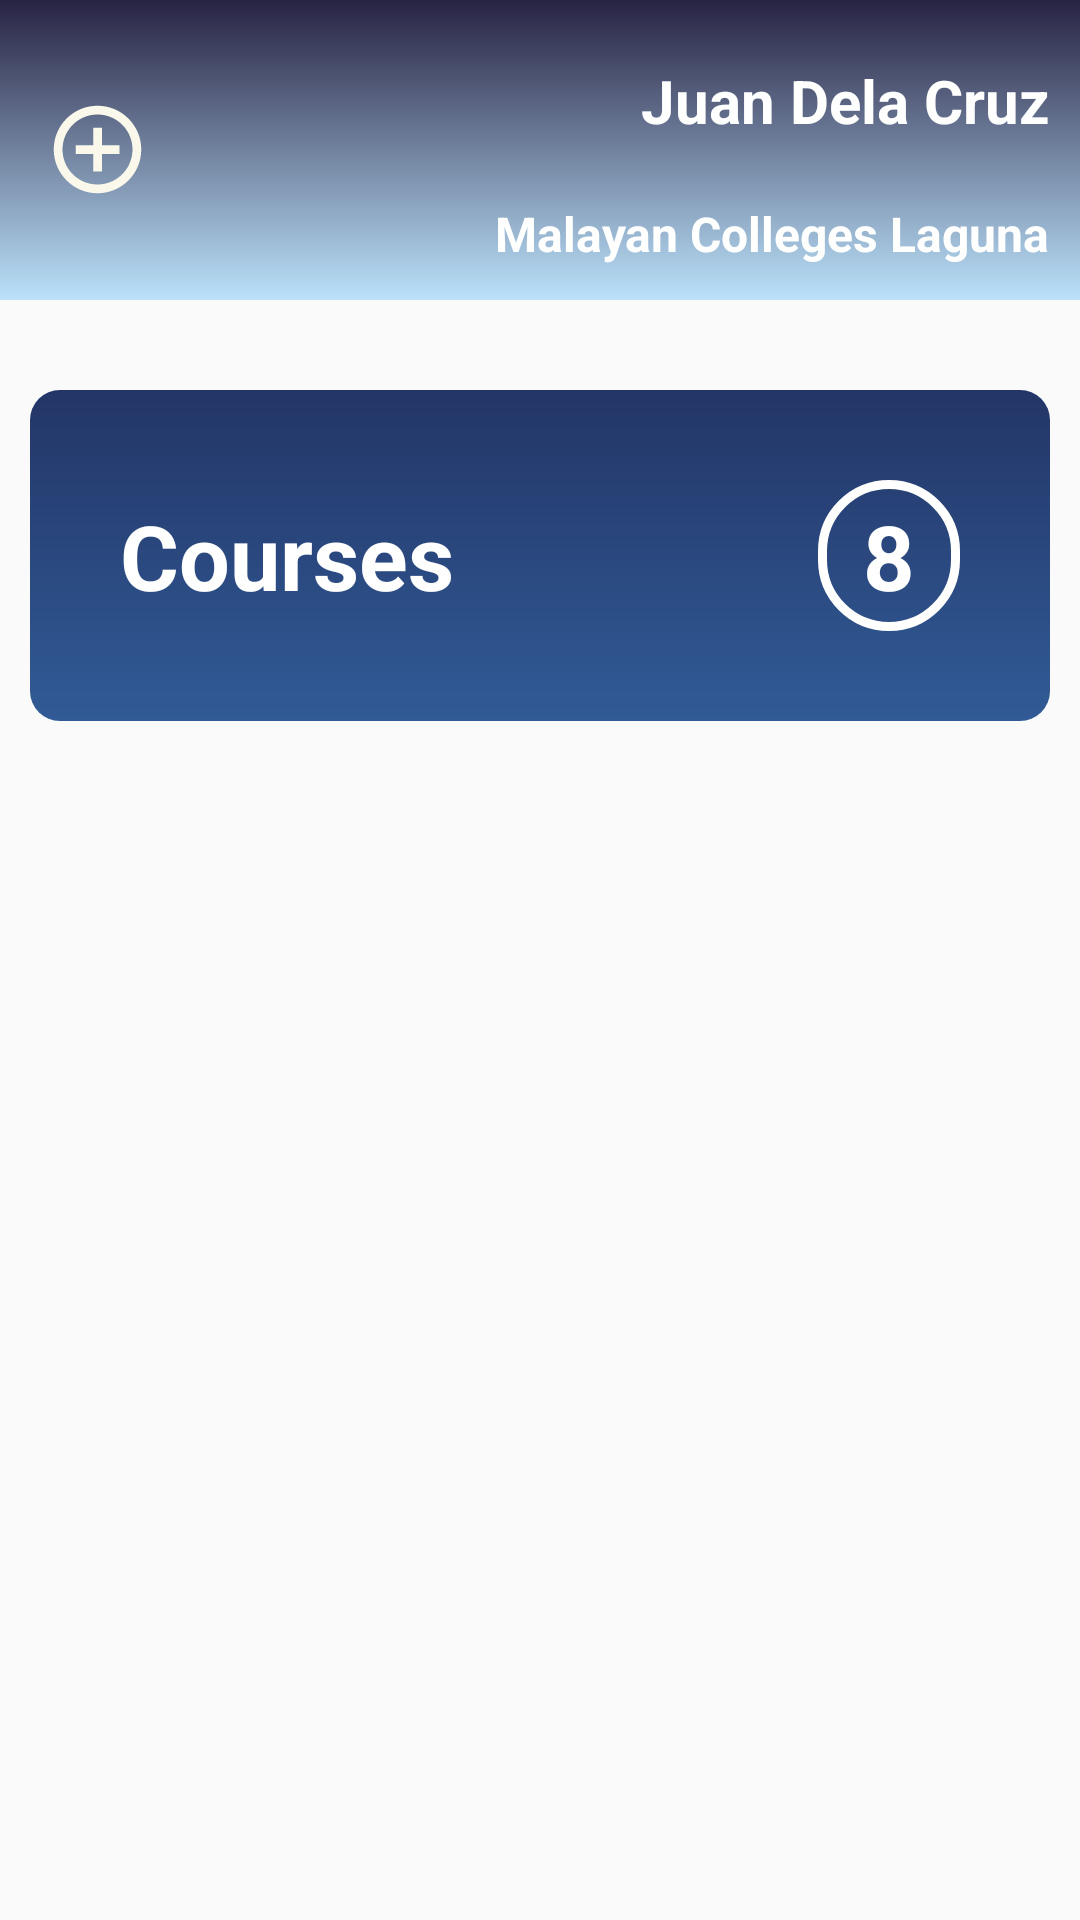

Screen size 1080x1920. Icon name, then its center in pixels as (x,y):
add circle: (97,149)
